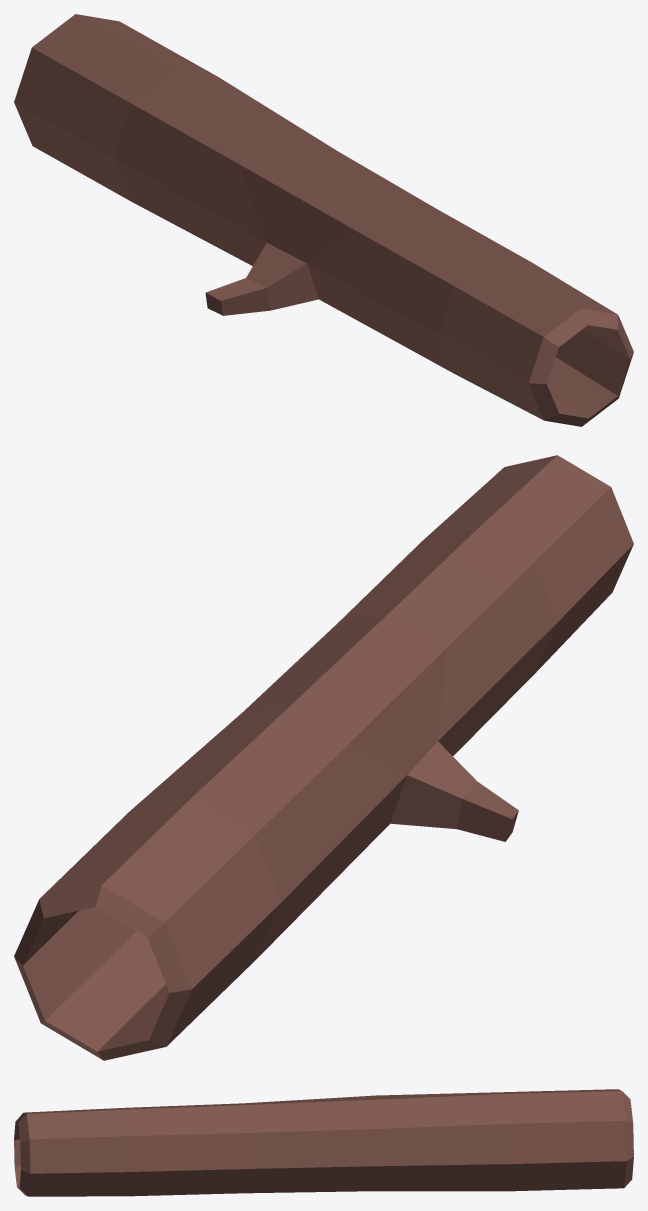
The model's file is LogTree2.fbx.
3 views of the same model, one above another, from view 1: azimuth 30°, elevation 25°; view 2: azimuth 150°, elevation 25°; view 3: azimuth 270°, elevation 25° (orthographic). The views are drawn at different scales.
Visible parts, largest first — view 1: Cylinder002; view 2: Cylinder002; view 3: Cylinder002.
Part boxes in pixels (x1,y1,x2,y2): Cylinder002: [14, 14, 633, 426]; Cylinder002: [14, 455, 633, 1060]; Cylinder002: [14, 1089, 633, 1196].
Bounding box in the file's own units: 76.94 × 46.18 × 265.
